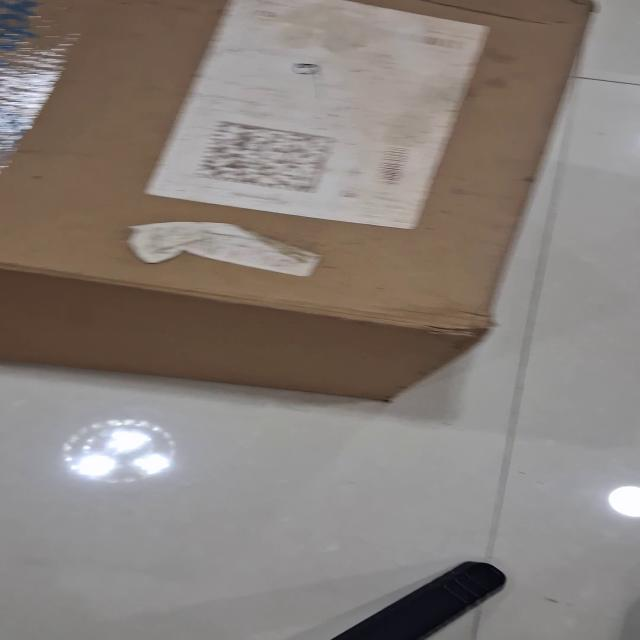paper: (142, 0, 490, 230), (125, 220, 324, 277)
